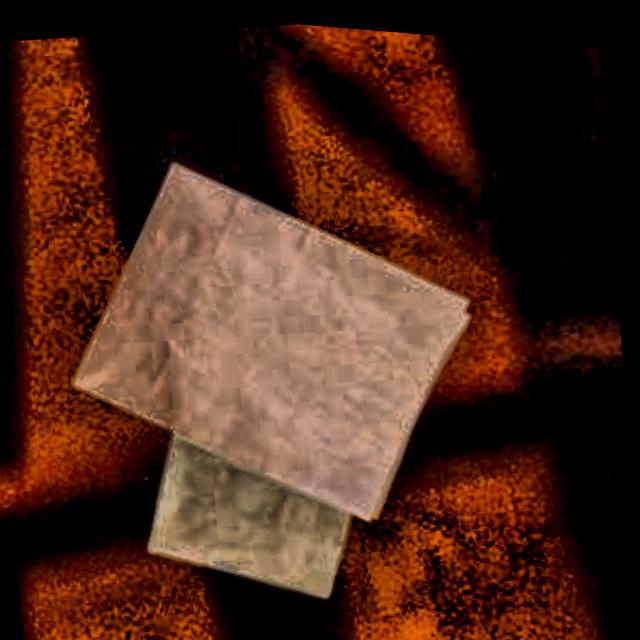Paper-bag: (36, 118, 512, 575), (95, 252, 436, 631)
